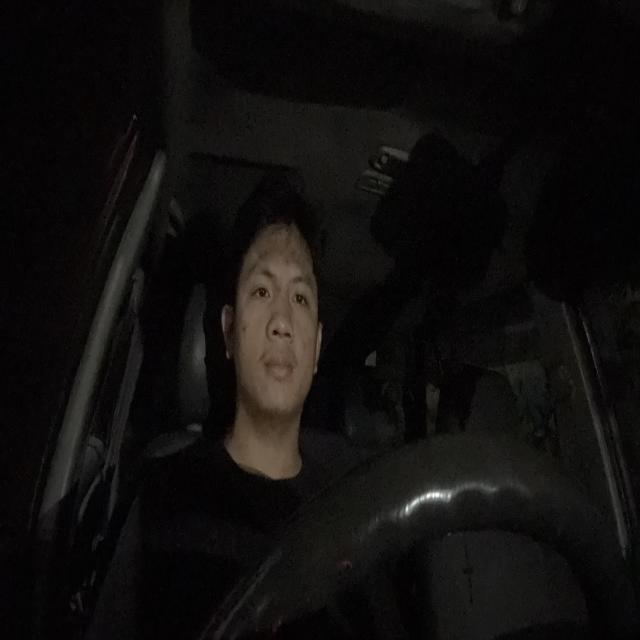open: (244, 267, 276, 316), (289, 270, 316, 322)
